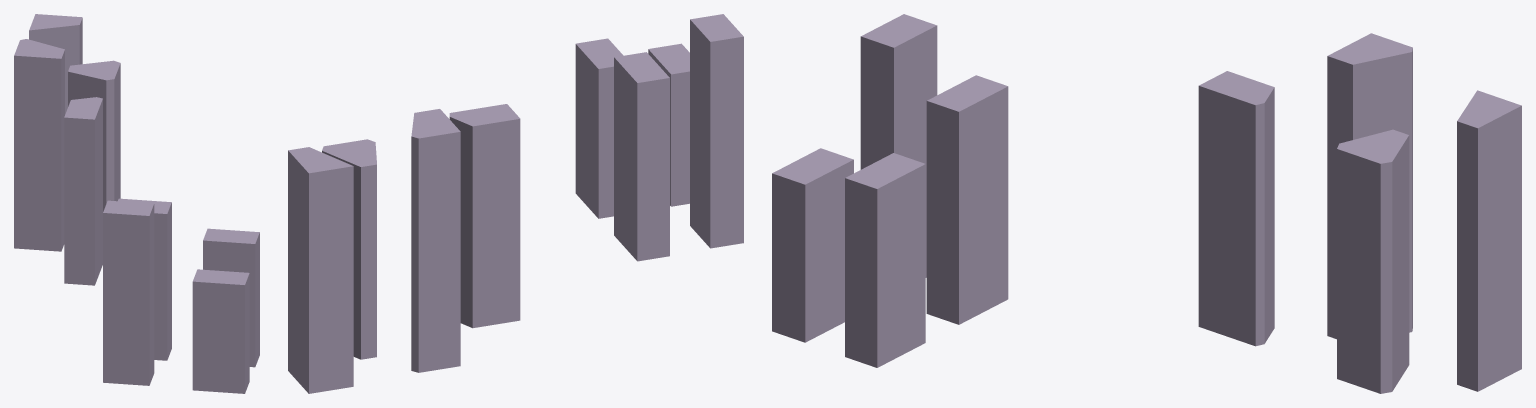
Rendered from cooksville-toc-2025-tower-envelopes.glb.
The picture shows the model from 3 angles, left to right: view 1: azimuth 30°, elevation 25°; view 2: azimuth 150°, elevation 25°; view 3: azimuth 270°, elevation 25°; orthographic projection. The views are drawn at different scales.
Visible parts, largest first — view 1: cooksville-E2, cooksville-W1, cooksville-E1, cooksville-W4, cooksville-E3, cooksville-W3, cooksville-W2, cooksville-E4; view 2: cooksville-E4, cooksville-E1, cooksville-E2, cooksville-W1, cooksville-W2, cooksville-W3, cooksville-E3, cooksville-W4; view 3: cooksville-E1, cooksville-W2, cooksville-E4, cooksville-E3, cooksville-W3, cooksville-W4, cooksville-E2, cooksville-W1.
Part boxes in pixels (bbox=[...]): cooksville-E2: bbox=[14, 39, 64, 251]; cooksville-W1: bbox=[103, 200, 154, 385]; cooksville-E1: bbox=[64, 97, 102, 285]; cooksville-W4: bbox=[192, 269, 249, 393]; cooksville-E3: bbox=[68, 60, 120, 211]; cooksville-W3: bbox=[203, 228, 259, 367]; cooksville-W2: bbox=[118, 198, 171, 360]; cooksville-E4: bbox=[29, 14, 82, 114]; cooksville-E4: bbox=[288, 147, 353, 393]; cooksville-E1: bbox=[449, 104, 520, 328]; cooksville-E2: bbox=[411, 109, 460, 372]; cooksville-W1: bbox=[690, 14, 743, 248]; cooksville-W2: bbox=[614, 52, 669, 261]; cooksville-W3: bbox=[575, 38, 623, 218]; cooksville-E3: bbox=[322, 139, 376, 359]; cooksville-W4: bbox=[648, 43, 689, 206]; cooksville-E1: bbox=[1198, 71, 1274, 346]; cooksville-W2: bbox=[926, 75, 1008, 324]; cooksville-E4: bbox=[1457, 90, 1521, 391]; cooksville-E3: bbox=[1337, 129, 1409, 393]; cooksville-W3: bbox=[845, 153, 925, 367]; cooksville-W4: bbox=[772, 148, 853, 342]; cooksville-E2: bbox=[1327, 33, 1412, 339]; cooksville-W1: bbox=[860, 14, 937, 277].
Bounding box in the file's own units: 149 × 154 × 368.
